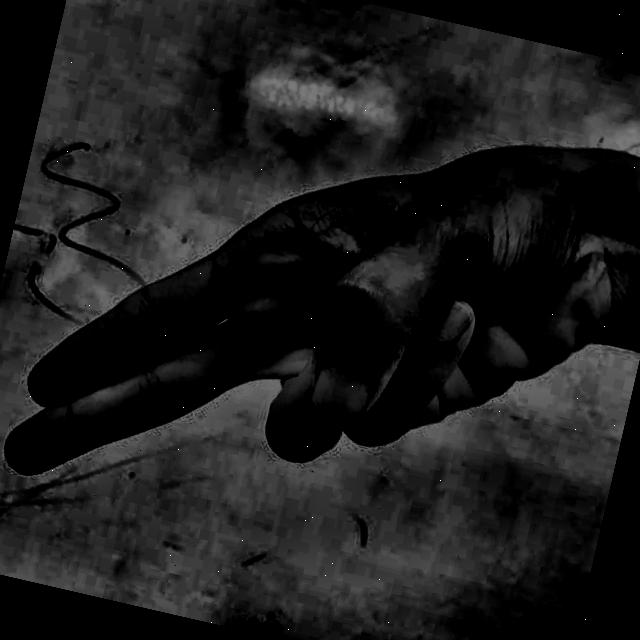Ha: (0, 12, 636, 640)
